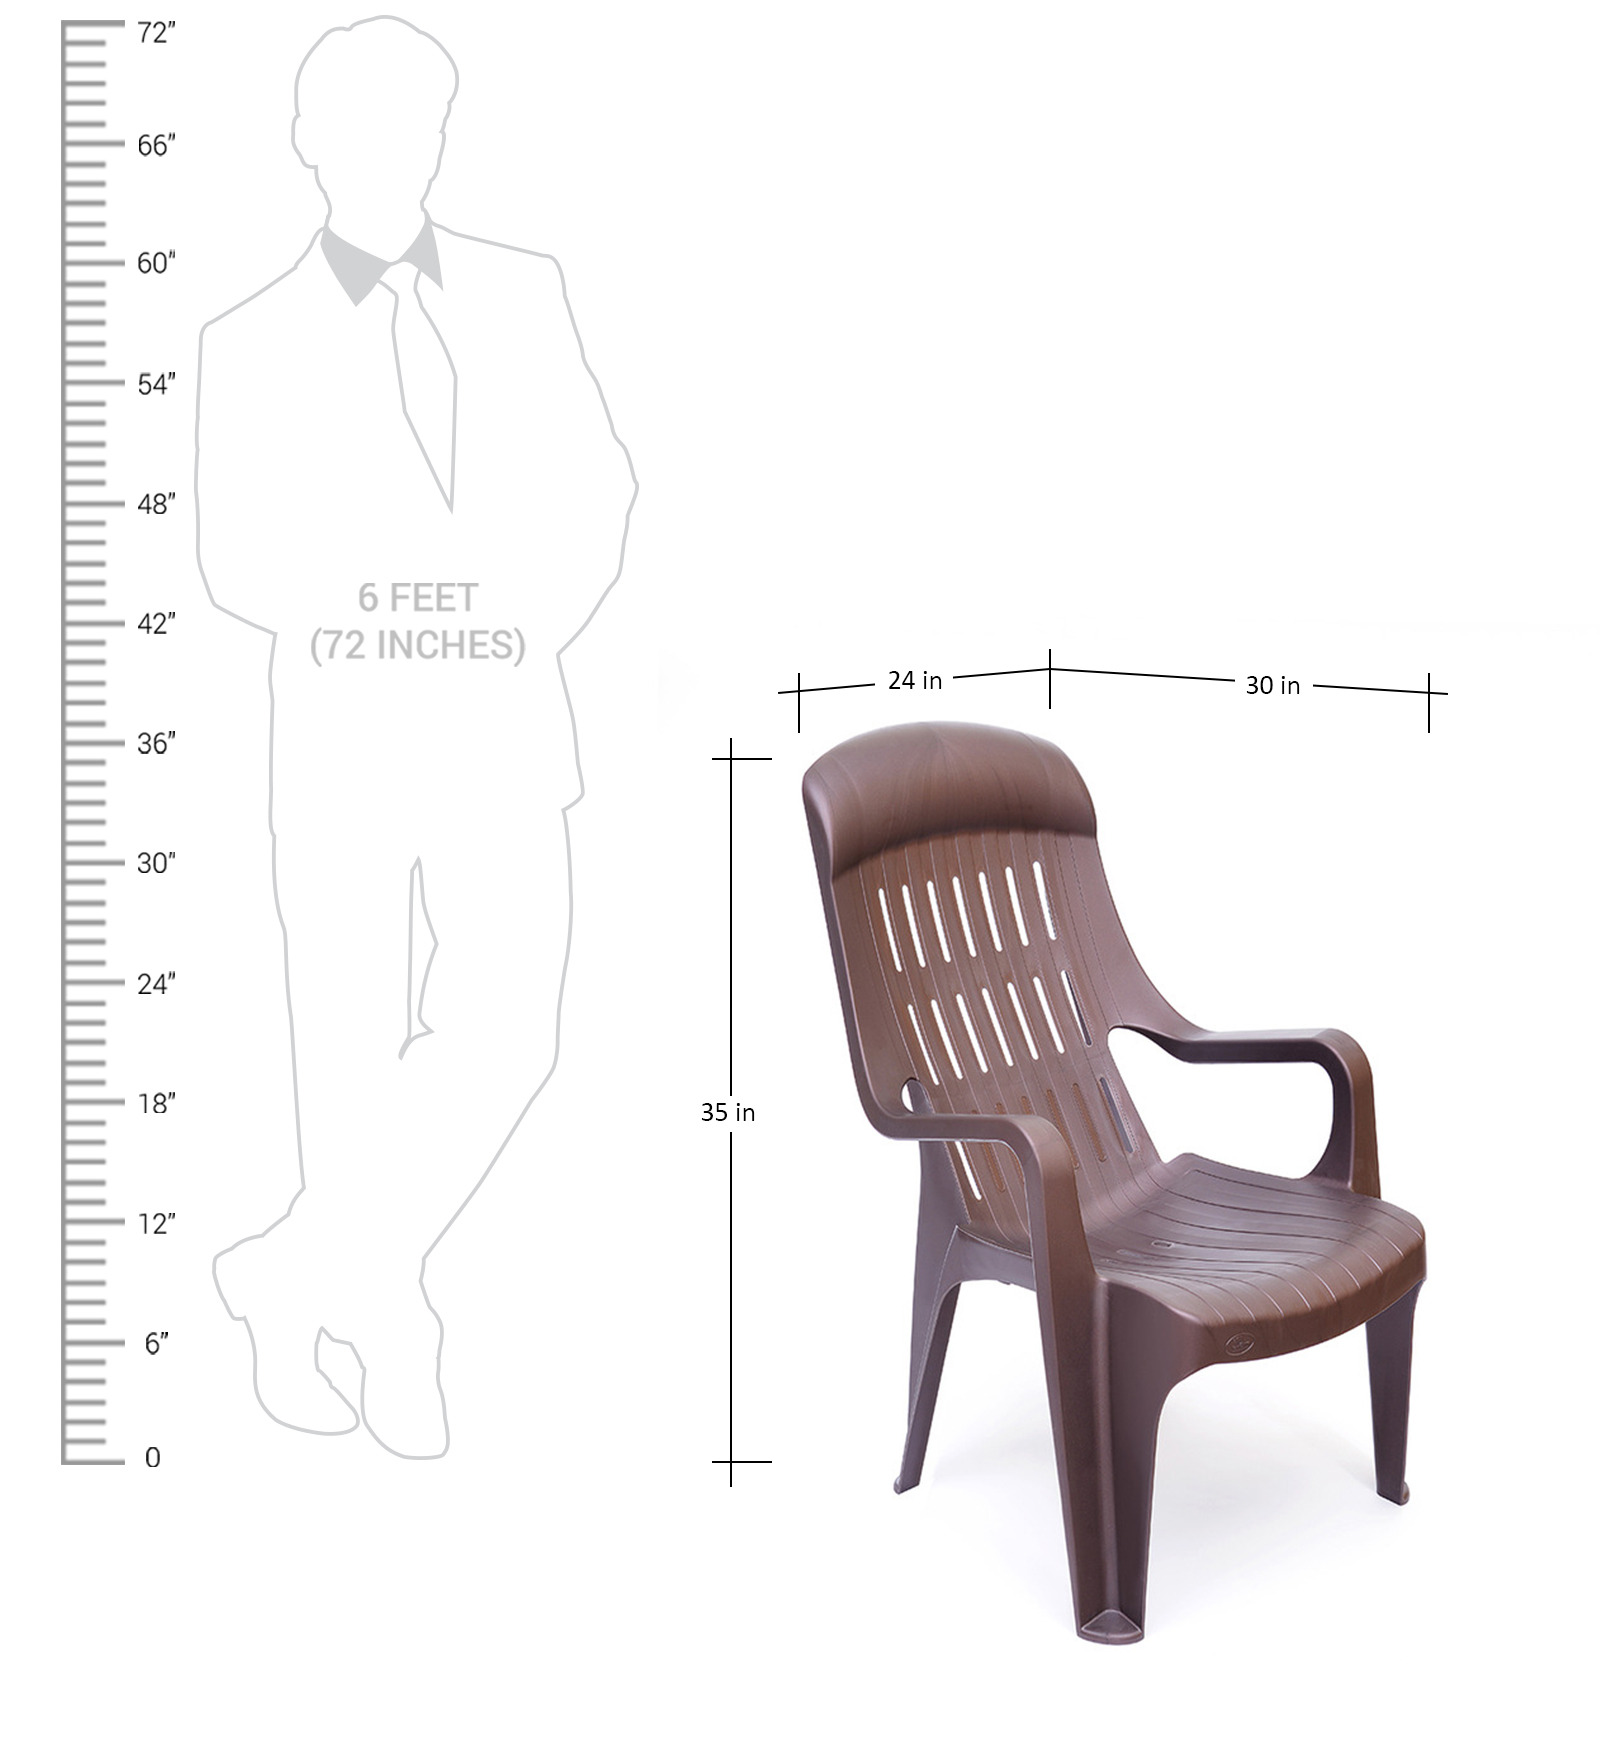Weekender Leisure Arm Chair in Brown Colour by Nilkamal: (782, 716, 1470, 1668)
